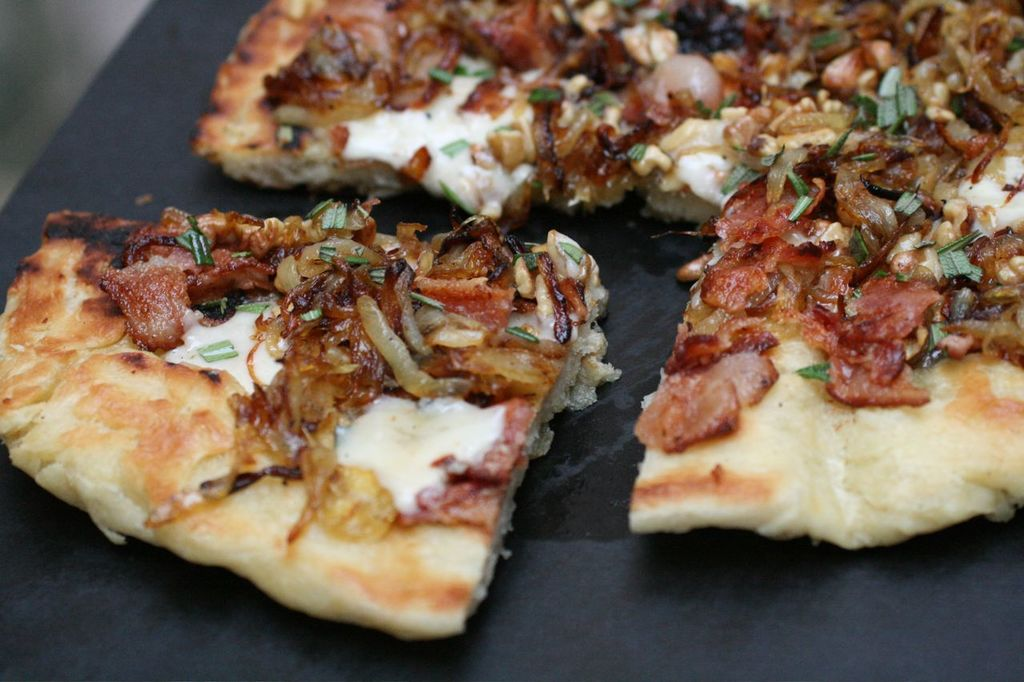Pizza: (189, 0, 1023, 536), (10, 177, 605, 659)
